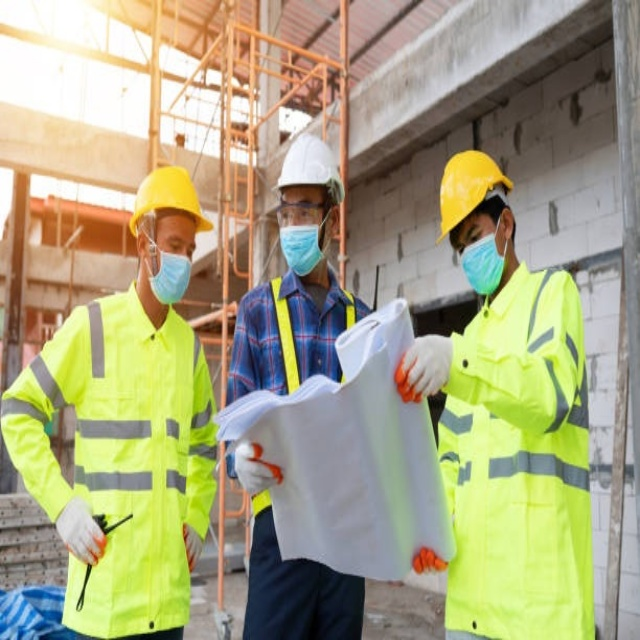Gafas: (278, 198, 330, 223)
Guantes: (396, 334, 453, 402), (56, 495, 106, 566), (234, 441, 284, 496), (183, 523, 203, 575), (412, 547, 449, 575)
Mascara: (459, 214, 508, 296), (278, 207, 330, 276), (145, 228, 192, 304)
Sin_gafas: (154, 226, 197, 257), (450, 218, 483, 251)
